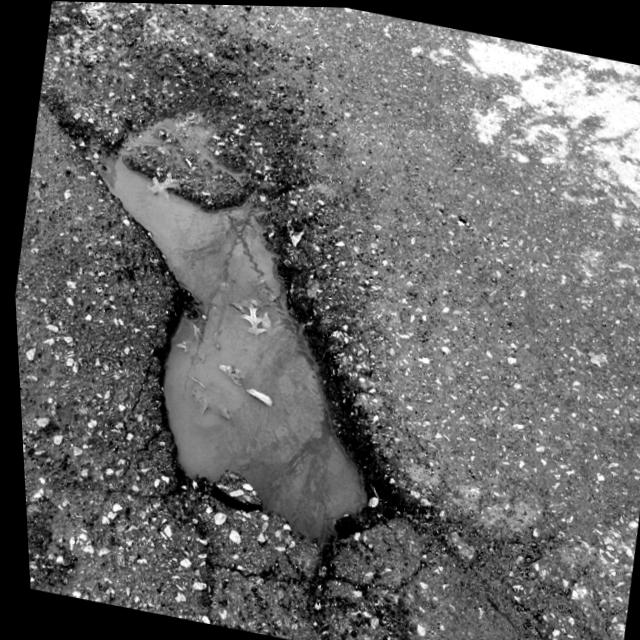pathole: (98, 114, 361, 538)
